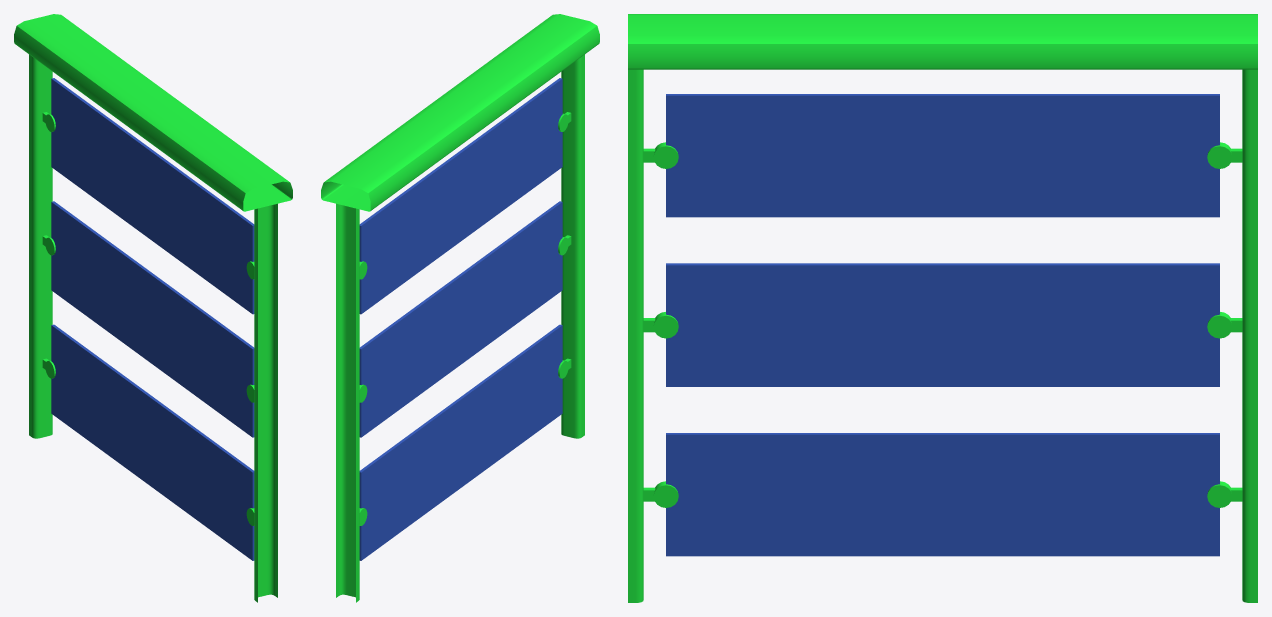
Rendered from railing_three_pane_low.fbx.
The picture shows the model from 3 angles, left to right: view 1: azimuth 30°, elevation 25°; view 2: azimuth 150°, elevation 25°; view 3: azimuth 270°, elevation 25°; orthographic projection. The views are drawn at different scales.
Visible parts, largest first — view 1: Box024; view 2: Box024; view 3: Box024.
Part boxes in pixels (box(x1,y1,x2,y2)): Box024: box(14, 14, 292, 602); Box024: box(321, 14, 599, 602); Box024: box(628, 14, 1257, 602).
Bounding box in the file's own units: 12.5 × 100 × 100.
